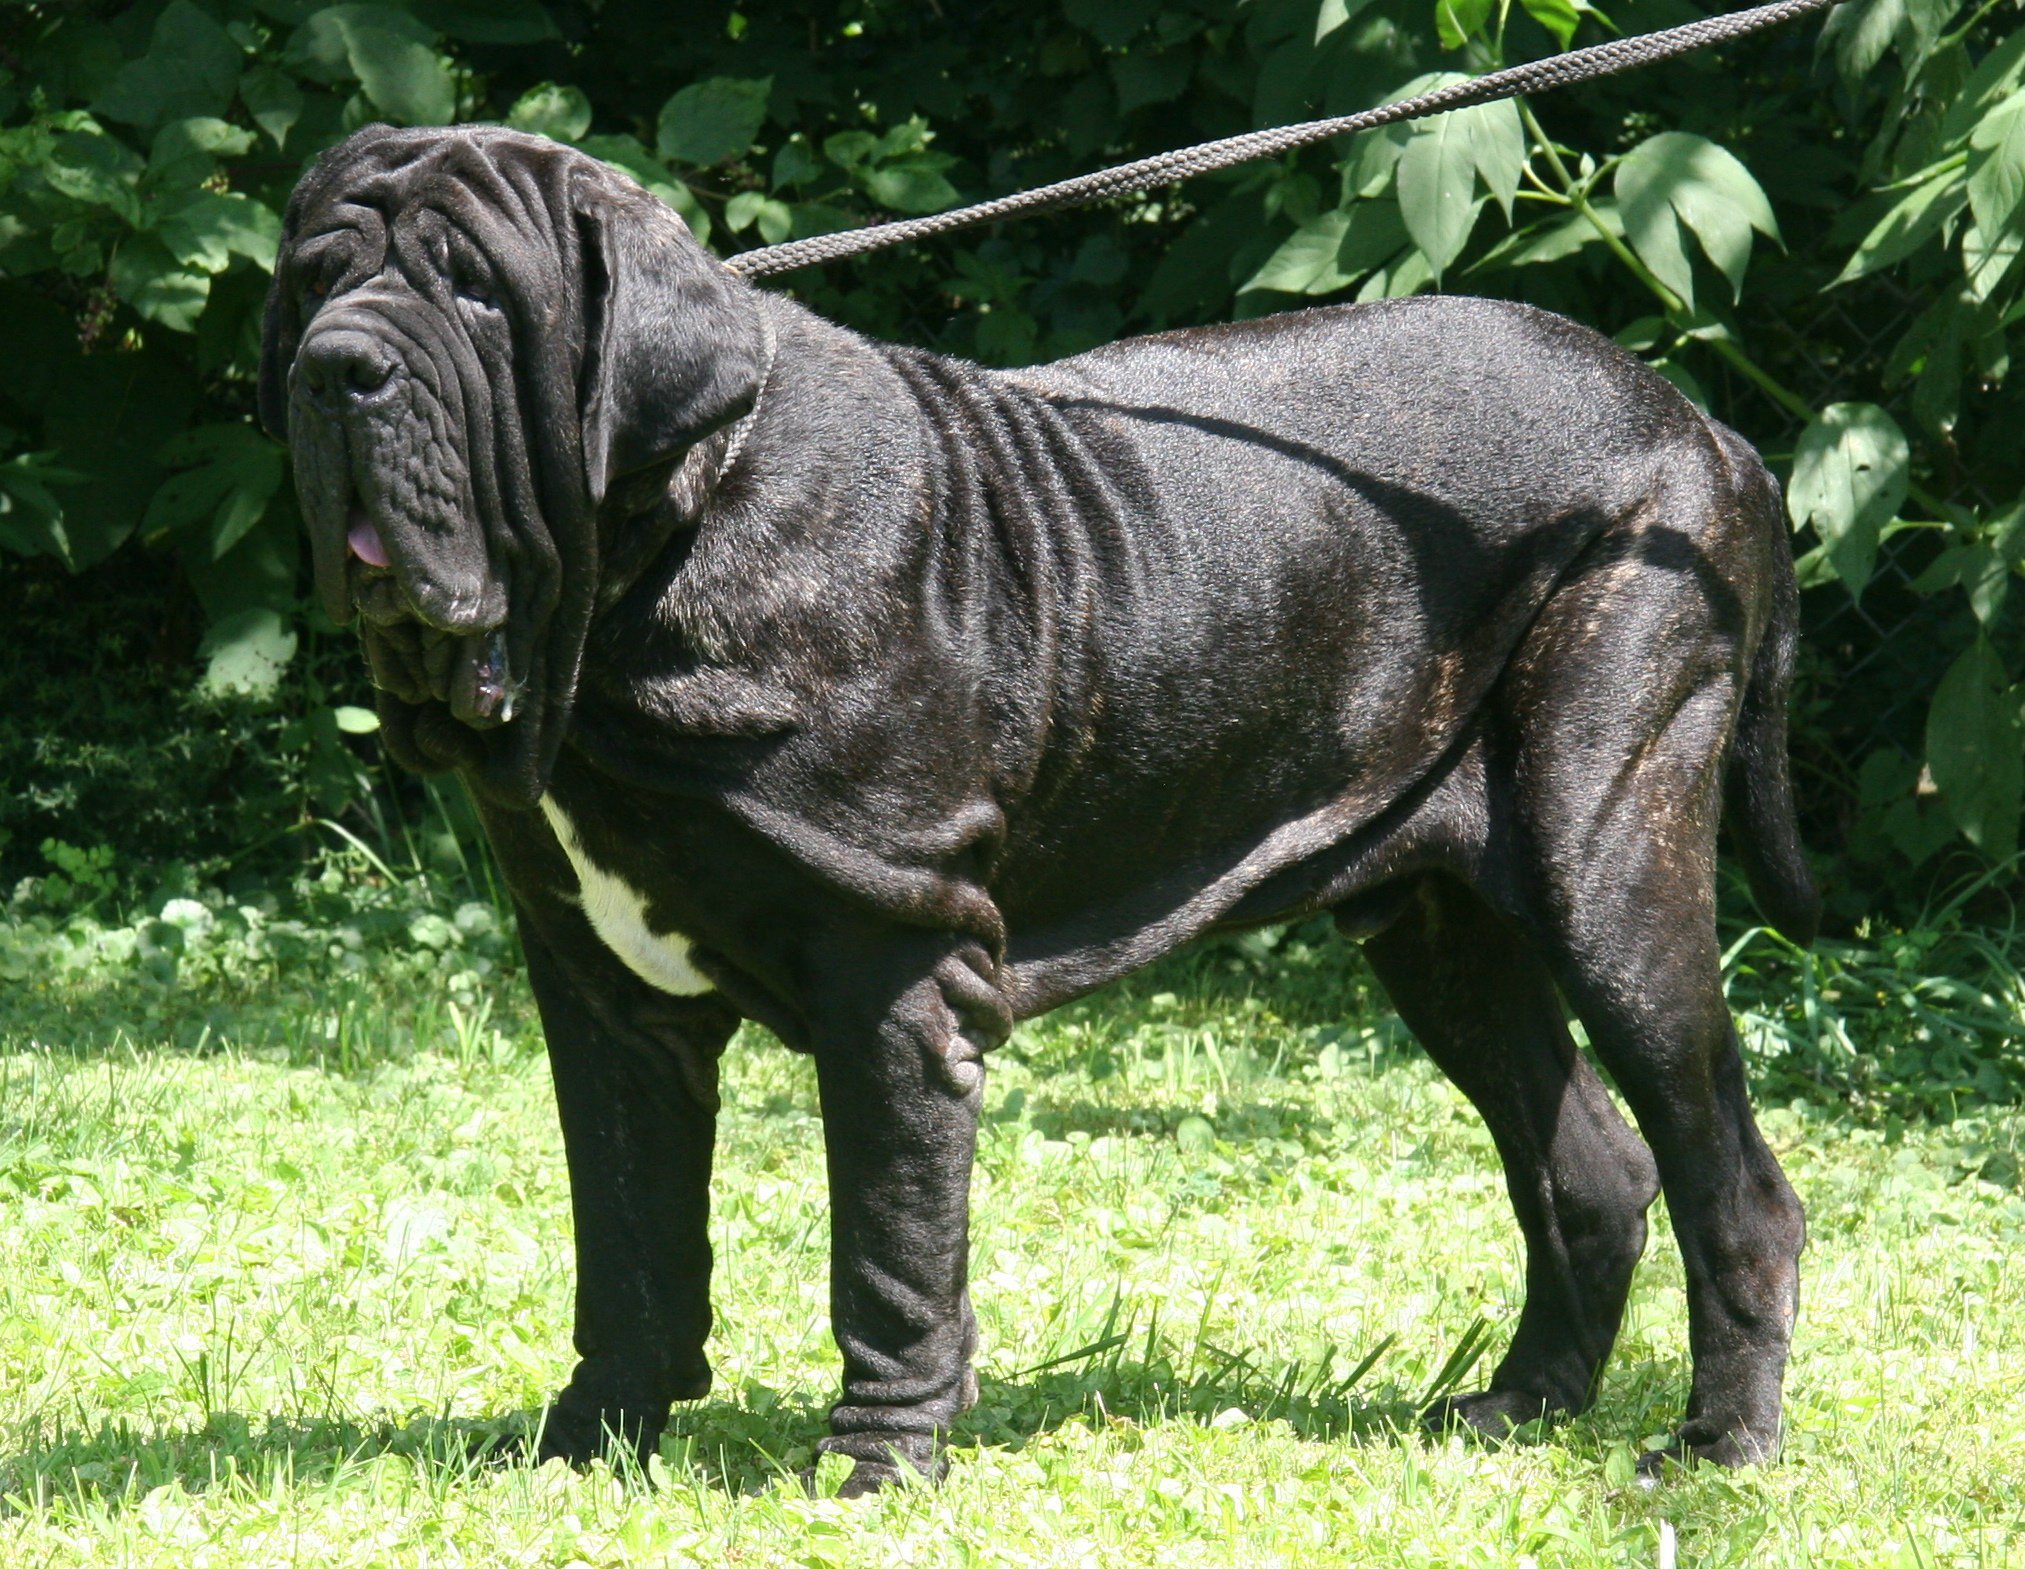neapolitan_mastiff: (256, 118, 1816, 1502)
